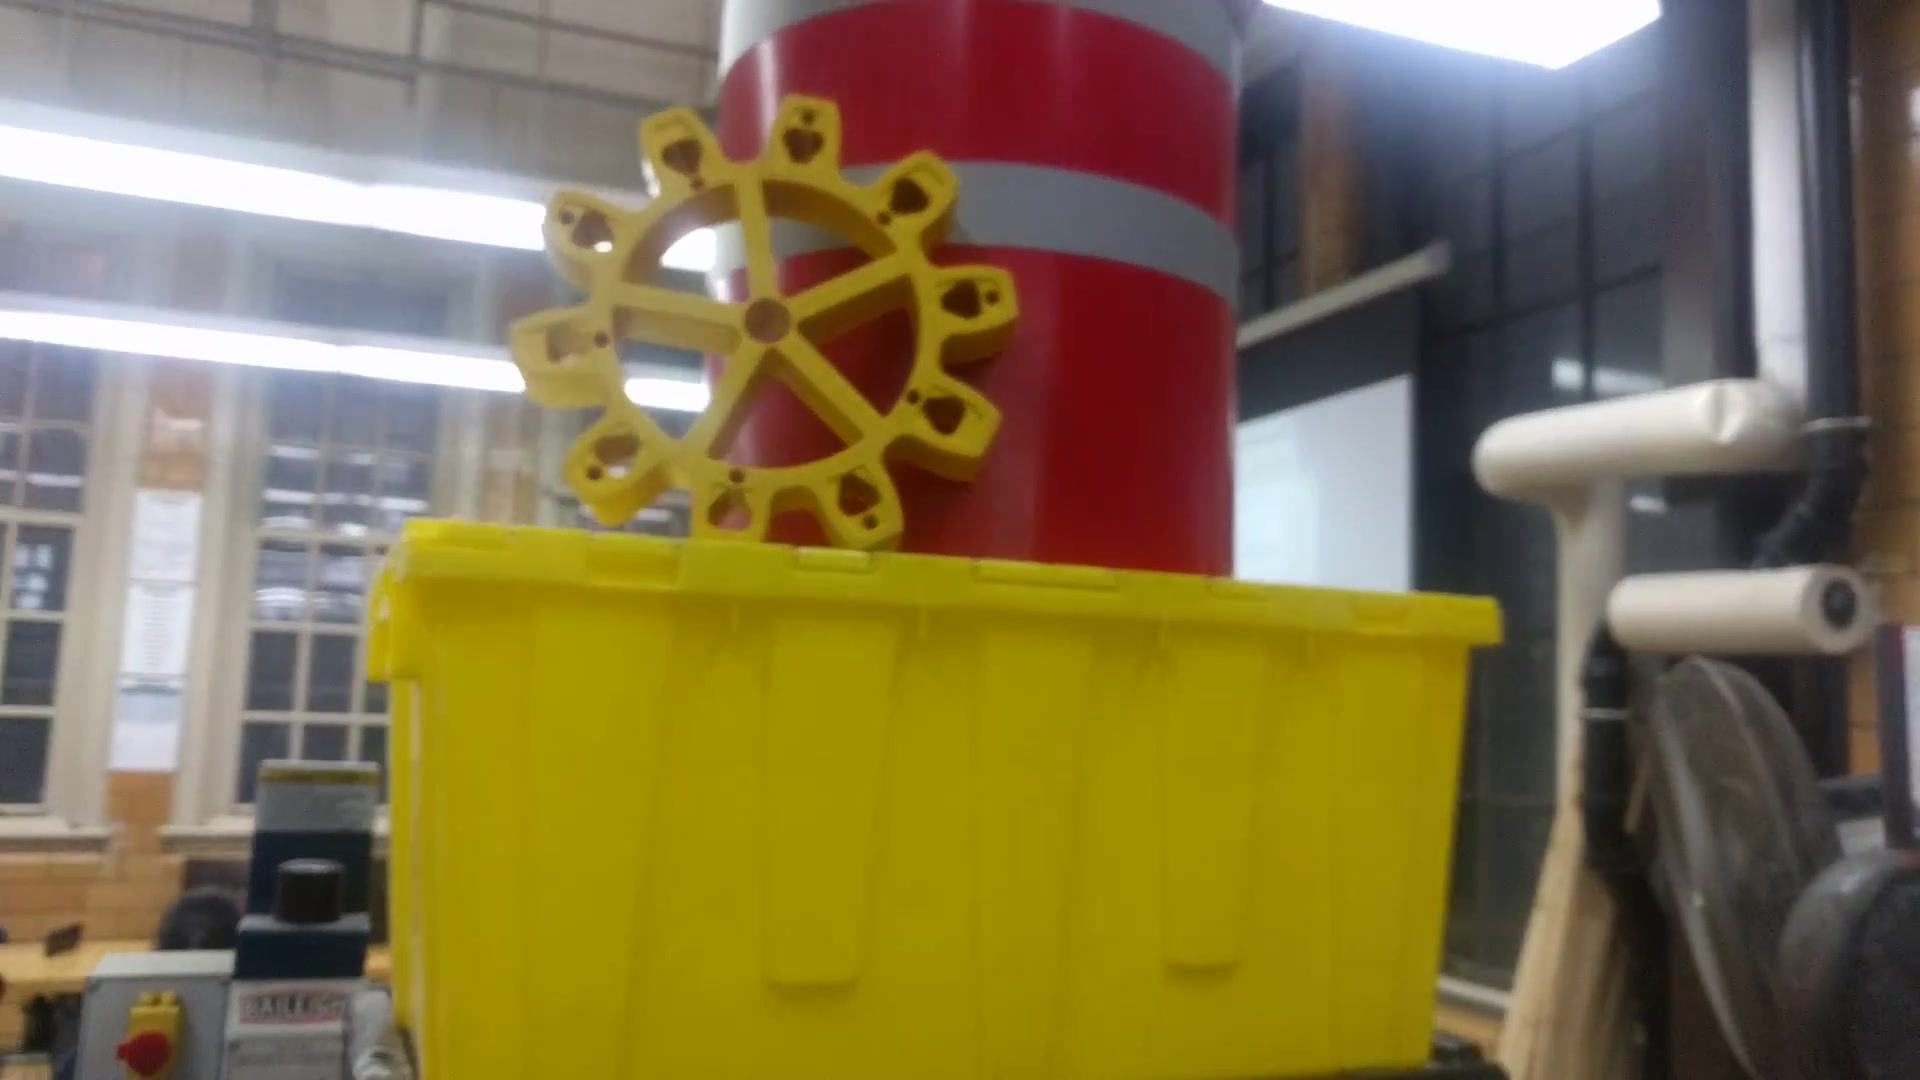gear: (517, 83, 1025, 563)
